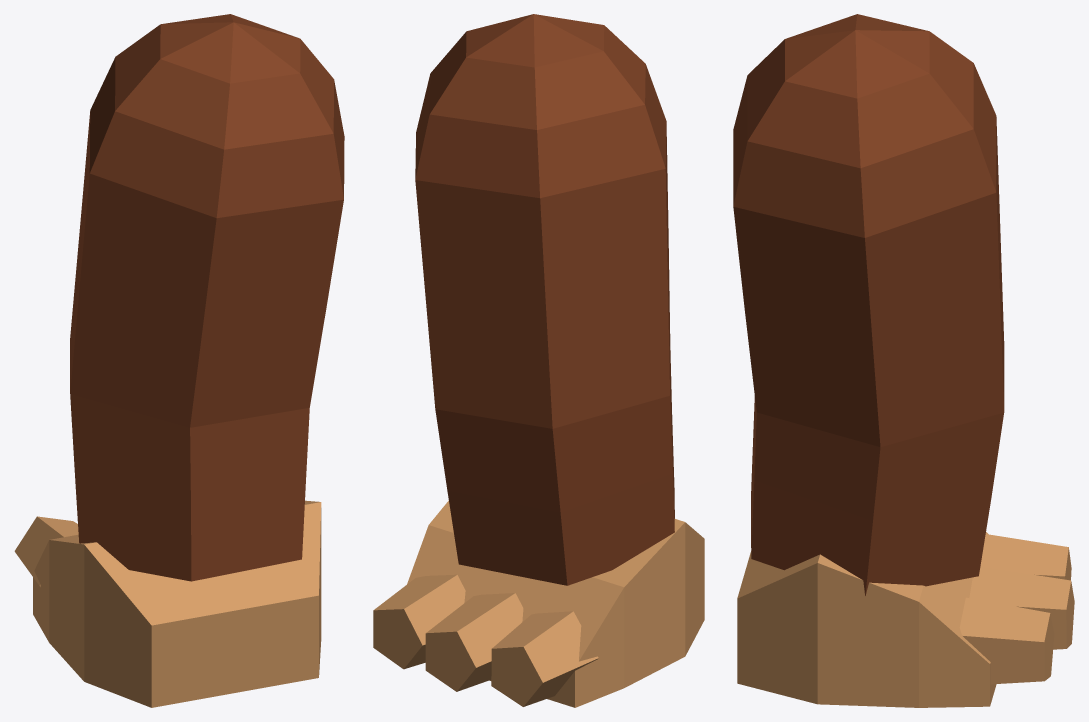
Rendered from ds_monkey_trunk_leg_l.glb.
3 views of the same model, side by side, from view 1: azimuth 30°, elevation 25°; view 2: azimuth 150°, elevation 25°; view 3: azimuth 270°, elevation 25° (orthographic). The views are drawn at different scales.
Parts seen in each view (by area): view 1: DSMonkeyTrunk_Leg_L; view 2: DSMonkeyTrunk_Leg_L; view 3: DSMonkeyTrunk_Leg_L.
Boxes of the visible parts, x1=… form: DSMonkeyTrunk_Leg_L: x1=14, y1=14, x2=344, y2=707; DSMonkeyTrunk_Leg_L: x1=373, y1=14, x2=704, y2=707; DSMonkeyTrunk_Leg_L: x1=733, y1=14, x2=1074, y2=707.
Size of the model in its own units: 0.0816 by 0.1808 by 0.0875.
